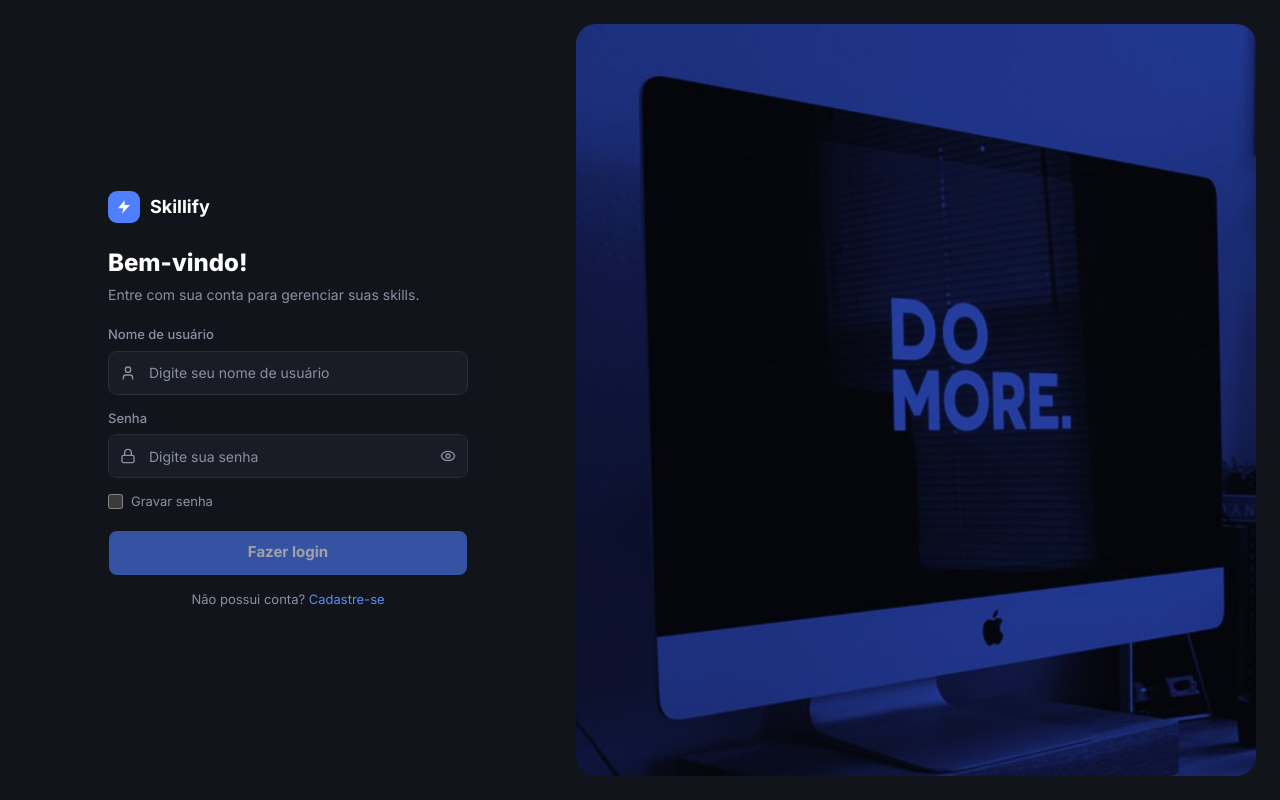
Gestão de skills › aumenta e diminui o level de uma skill existente
Type "joao" into the field with id "usuario" at point(288, 373), box [108,351,468,395]
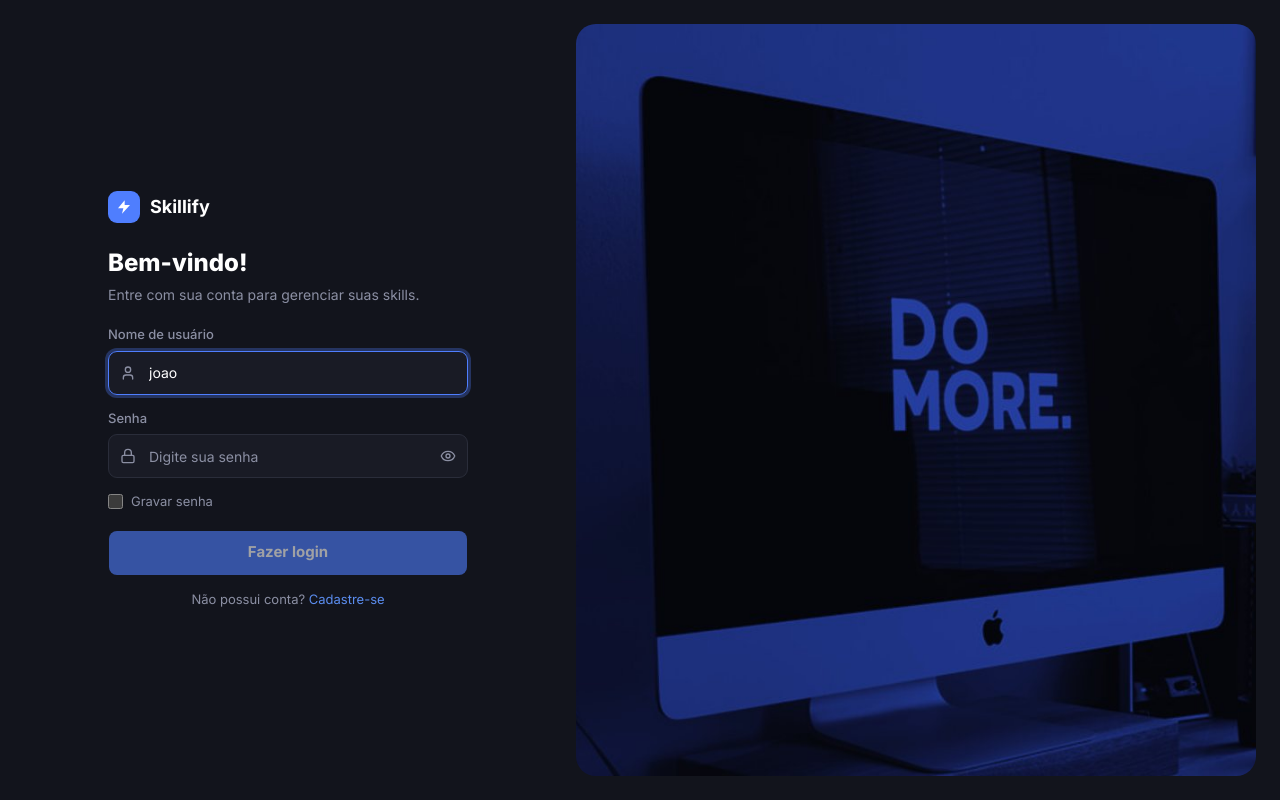
Type "1234" into the password field with id "senha" at point(288, 456), box [108,434,468,478]
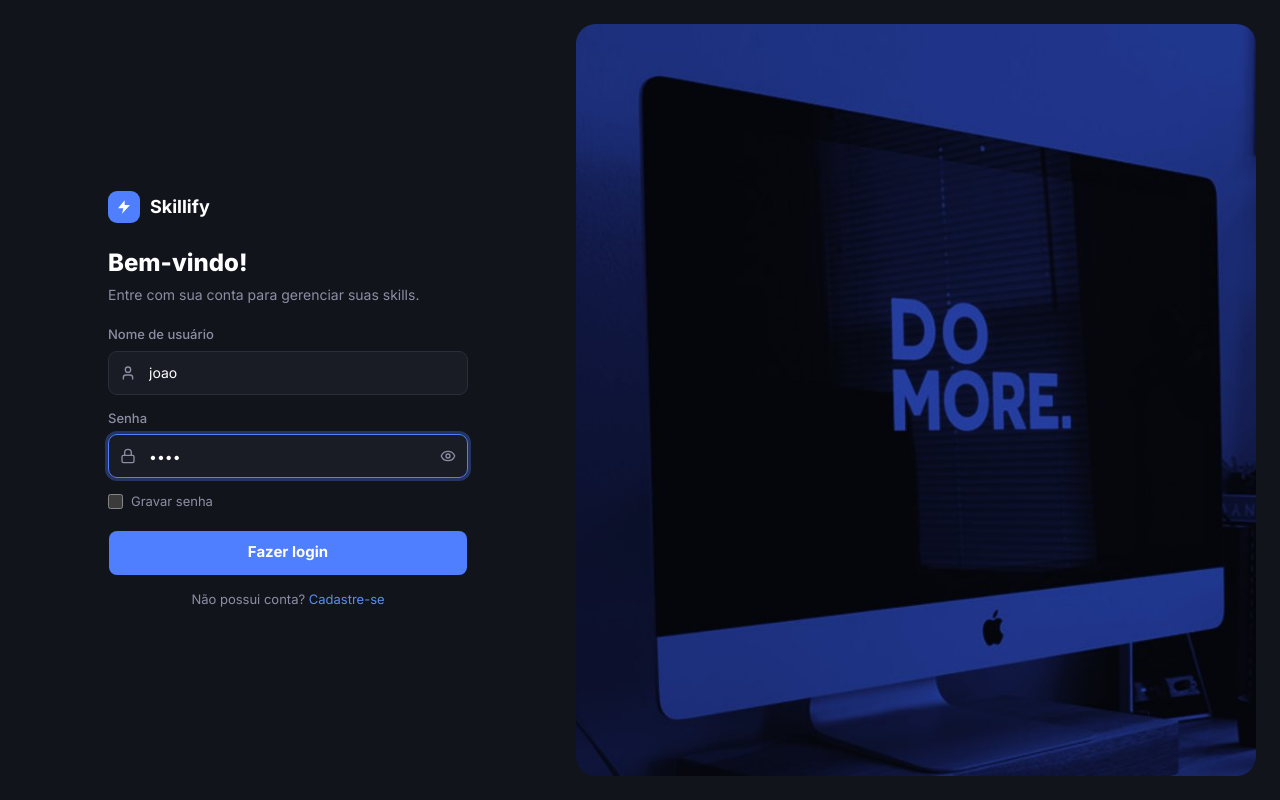
Click the button "Fazer login" at point(288, 553), box [108,530,468,576]
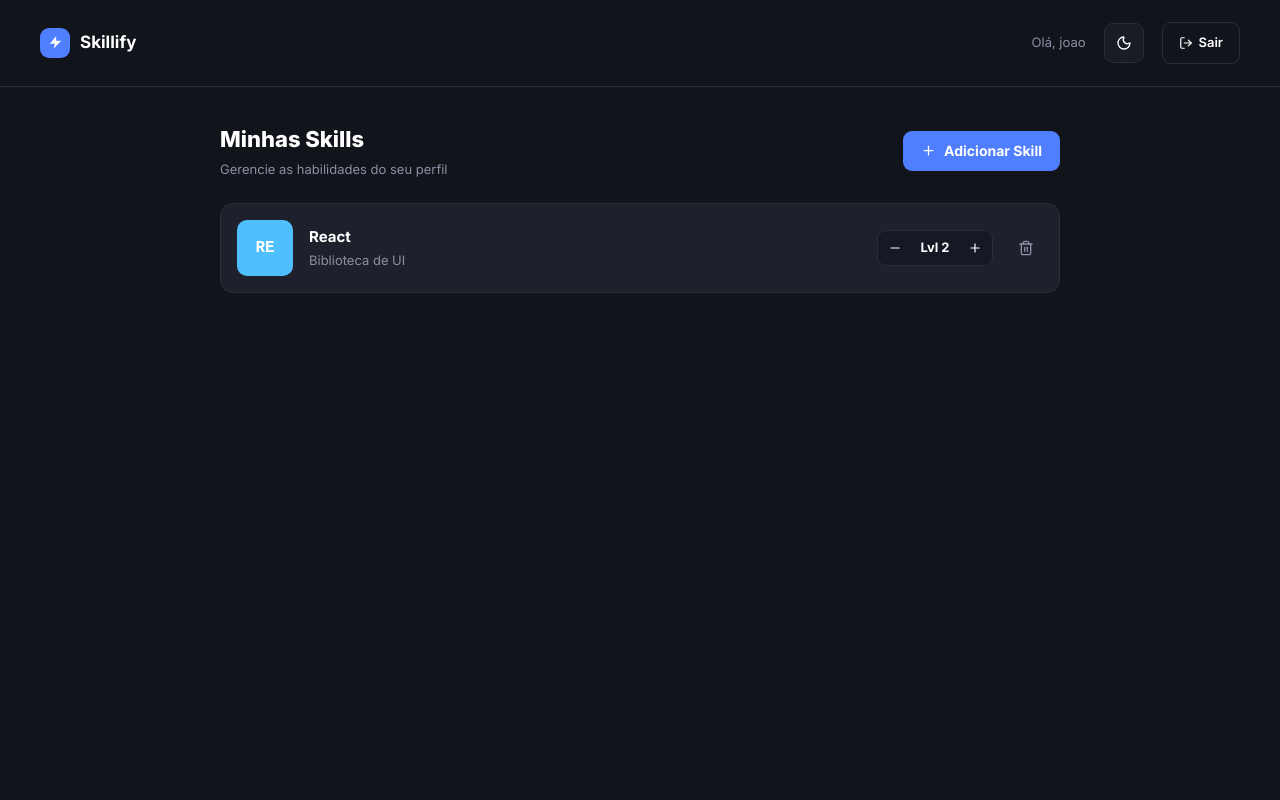
Now the text "Lvl 2" is shown, box [920,239,950,255]
Click the button named "Aumentar level" at point(975, 248), box [962,235,988,261]
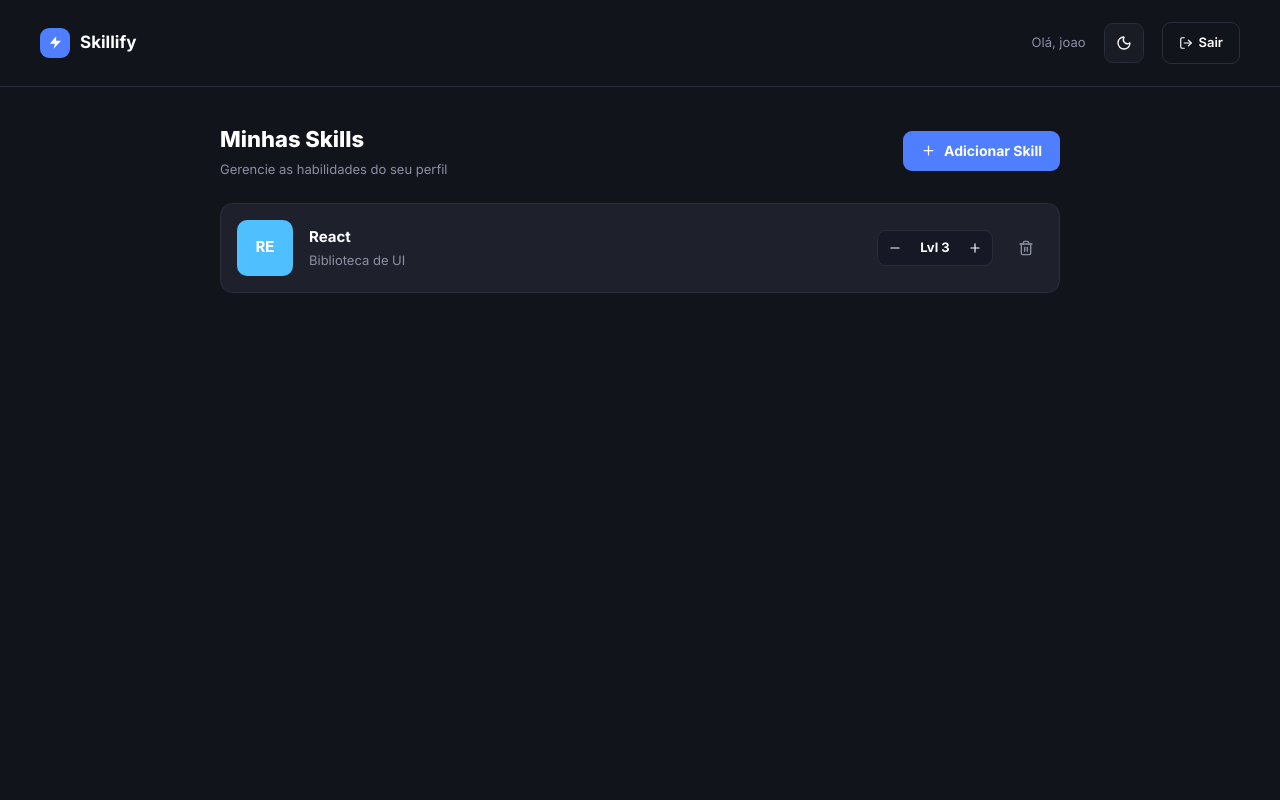
Now the text "Lvl 3" is shown, box [920,239,950,255]
